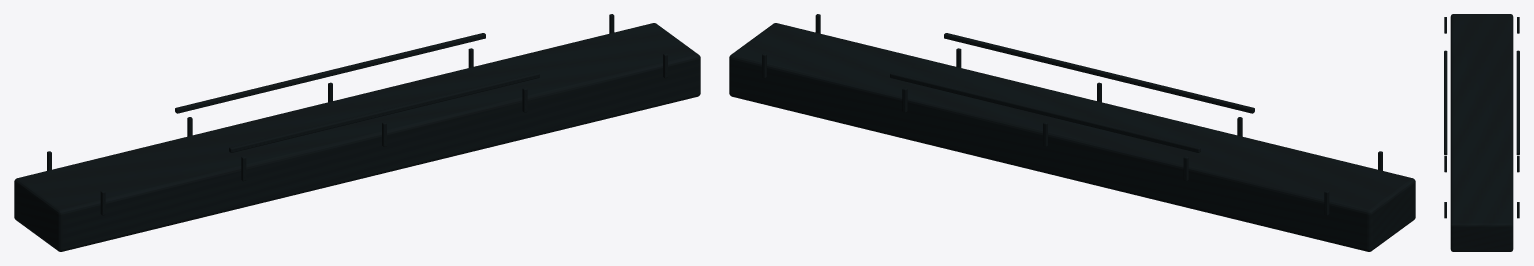
The model's file is STW_INDUSTRIAL_YARD_01_arch.fbx.
3 views of the same model, side by side, from view 1: azimuth 30°, elevation 25°; view 2: azimuth 150°, elevation 25°; view 3: azimuth 270°, elevation 25° (orthographic). The views are drawn at different scales.
Parts seen in each view (by area): view 1: suspended_gallery, IY_GalleryRail_Rear, IY_GalleryRail_Front; view 2: suspended_gallery, IY_GalleryRail_Front, IY_GalleryRail_Rear; view 3: suspended_gallery, IY_GalleryRail_Front, IY_GalleryRail_Rear.
Boxes of the visible parts, x1,y1,x2,y2 form: suspended_gallery: [14, 23, 700, 251]; IY_GalleryRail_Rear: [175, 33, 485, 113]; IY_GalleryRail_Front: [229, 72, 539, 152]; suspended_gallery: [729, 23, 1415, 251]; IY_GalleryRail_Front: [944, 33, 1254, 113]; IY_GalleryRail_Rear: [890, 72, 1200, 152]; suspended_gallery: [1450, 14, 1513, 251]; IY_GalleryRail_Front: [1444, 50, 1447, 154]; IY_GalleryRail_Rear: [1516, 50, 1519, 154].
Bounding box in the file's own units: 800 × 122 × 80.75.
Materials: 1 (1 with a texture image).
